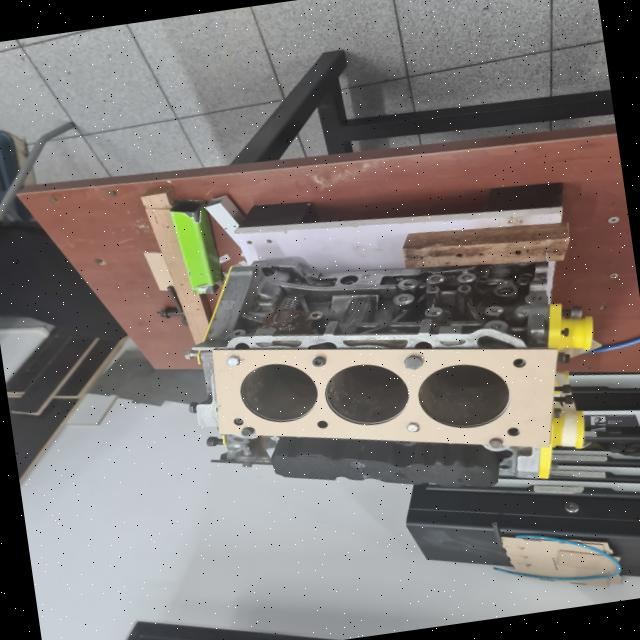tor_v1: (212, 349, 558, 448)
